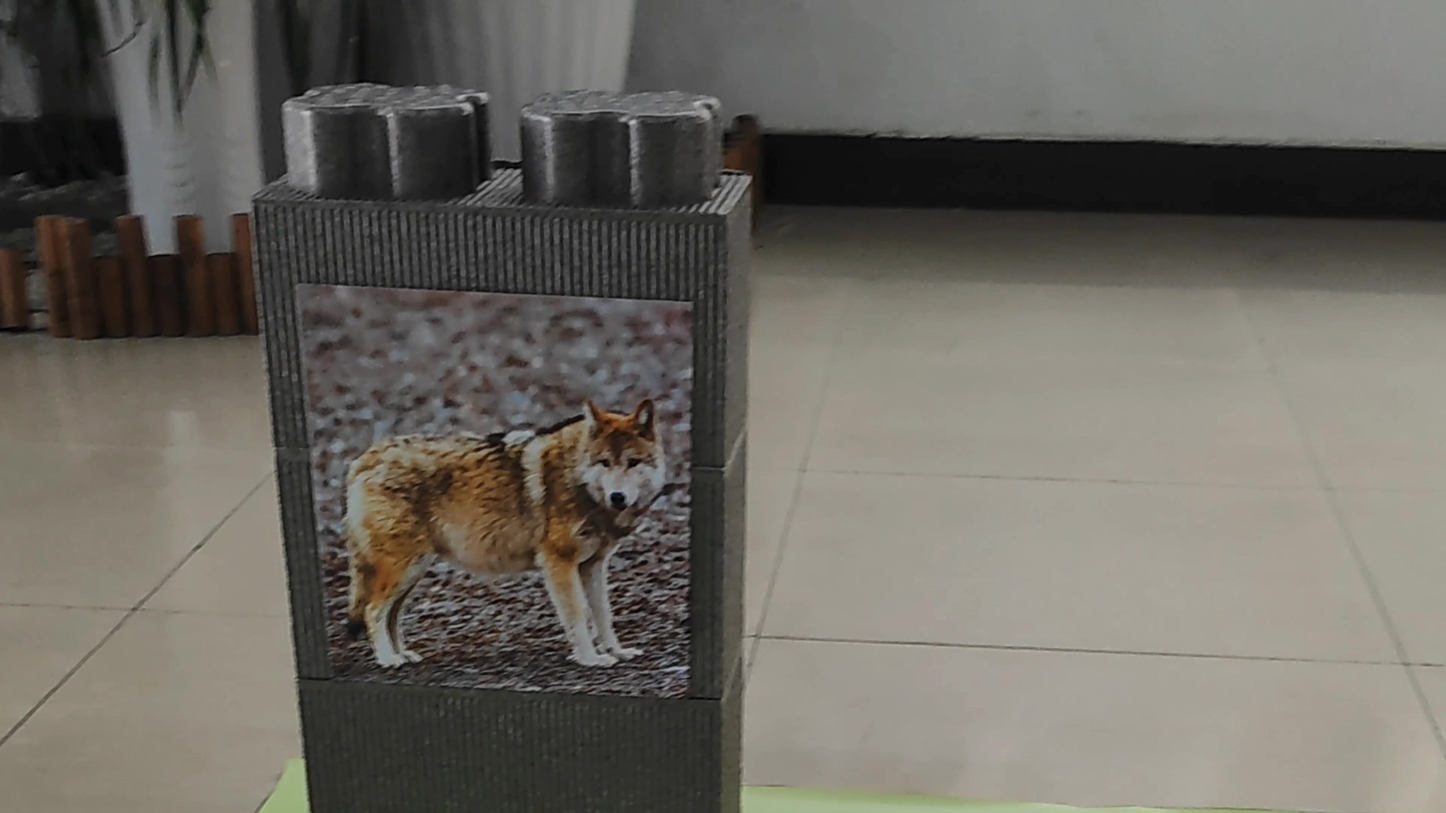wolf: (303, 286, 689, 691)
